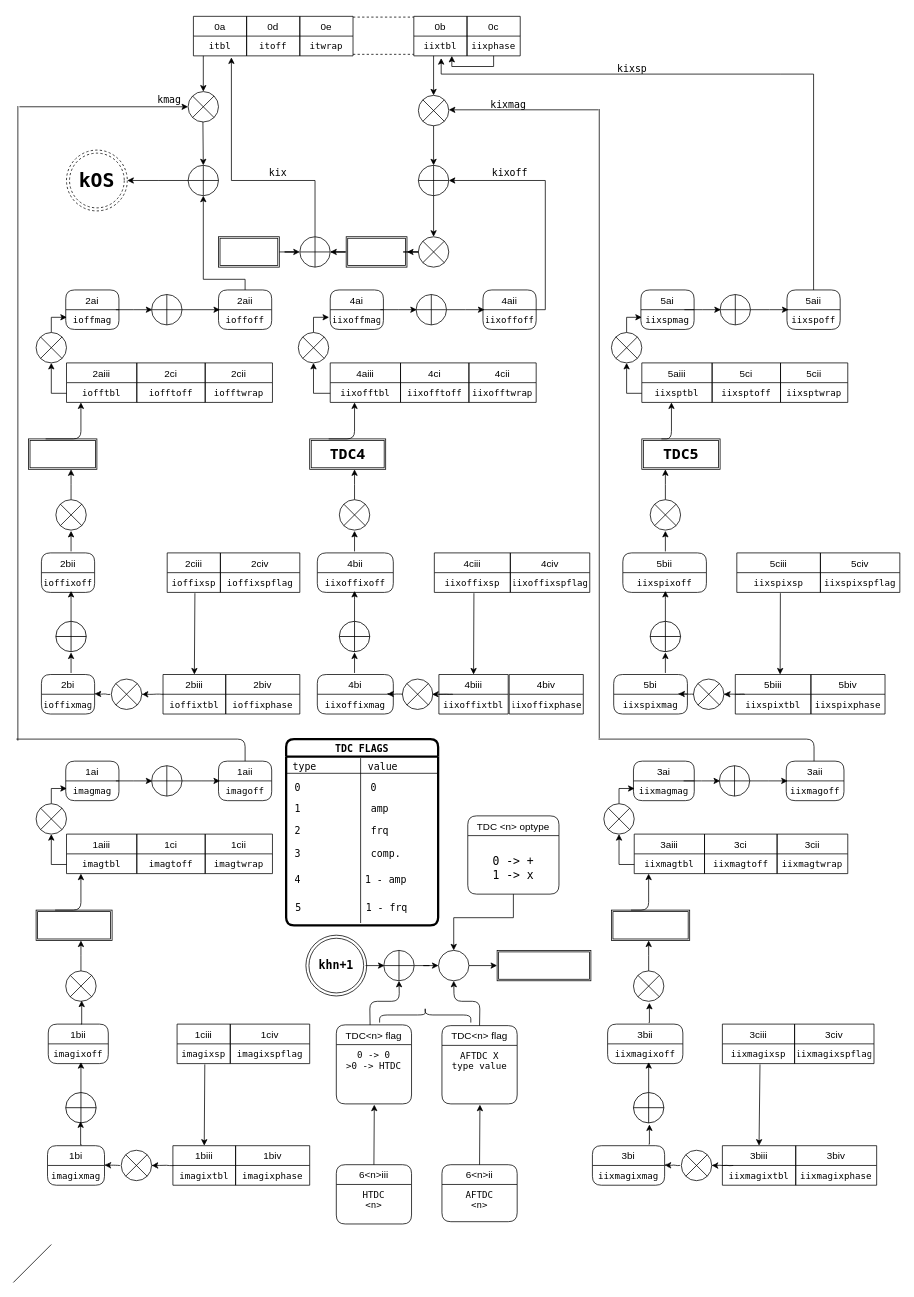
Image size: 914x1297. Some labels were removed from this diagram. Each missing label, with the centre of its shape:
6<n>i: (425,1015)
kOP: (248,251)
TDC 0: (376,251)
TDC 1: (73,924)
TDC 2: (62,453)
TDC 3: (650,924)
TDC<n>: (543,965)
